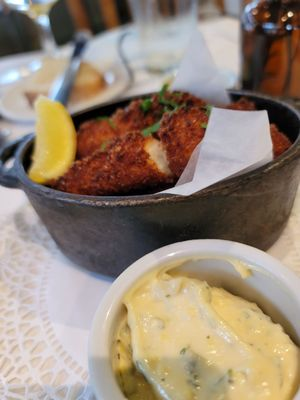sushi: (0, 59, 300, 278), (86, 239, 300, 400)
